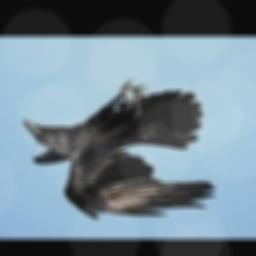Crow: (25, 79, 217, 220)
